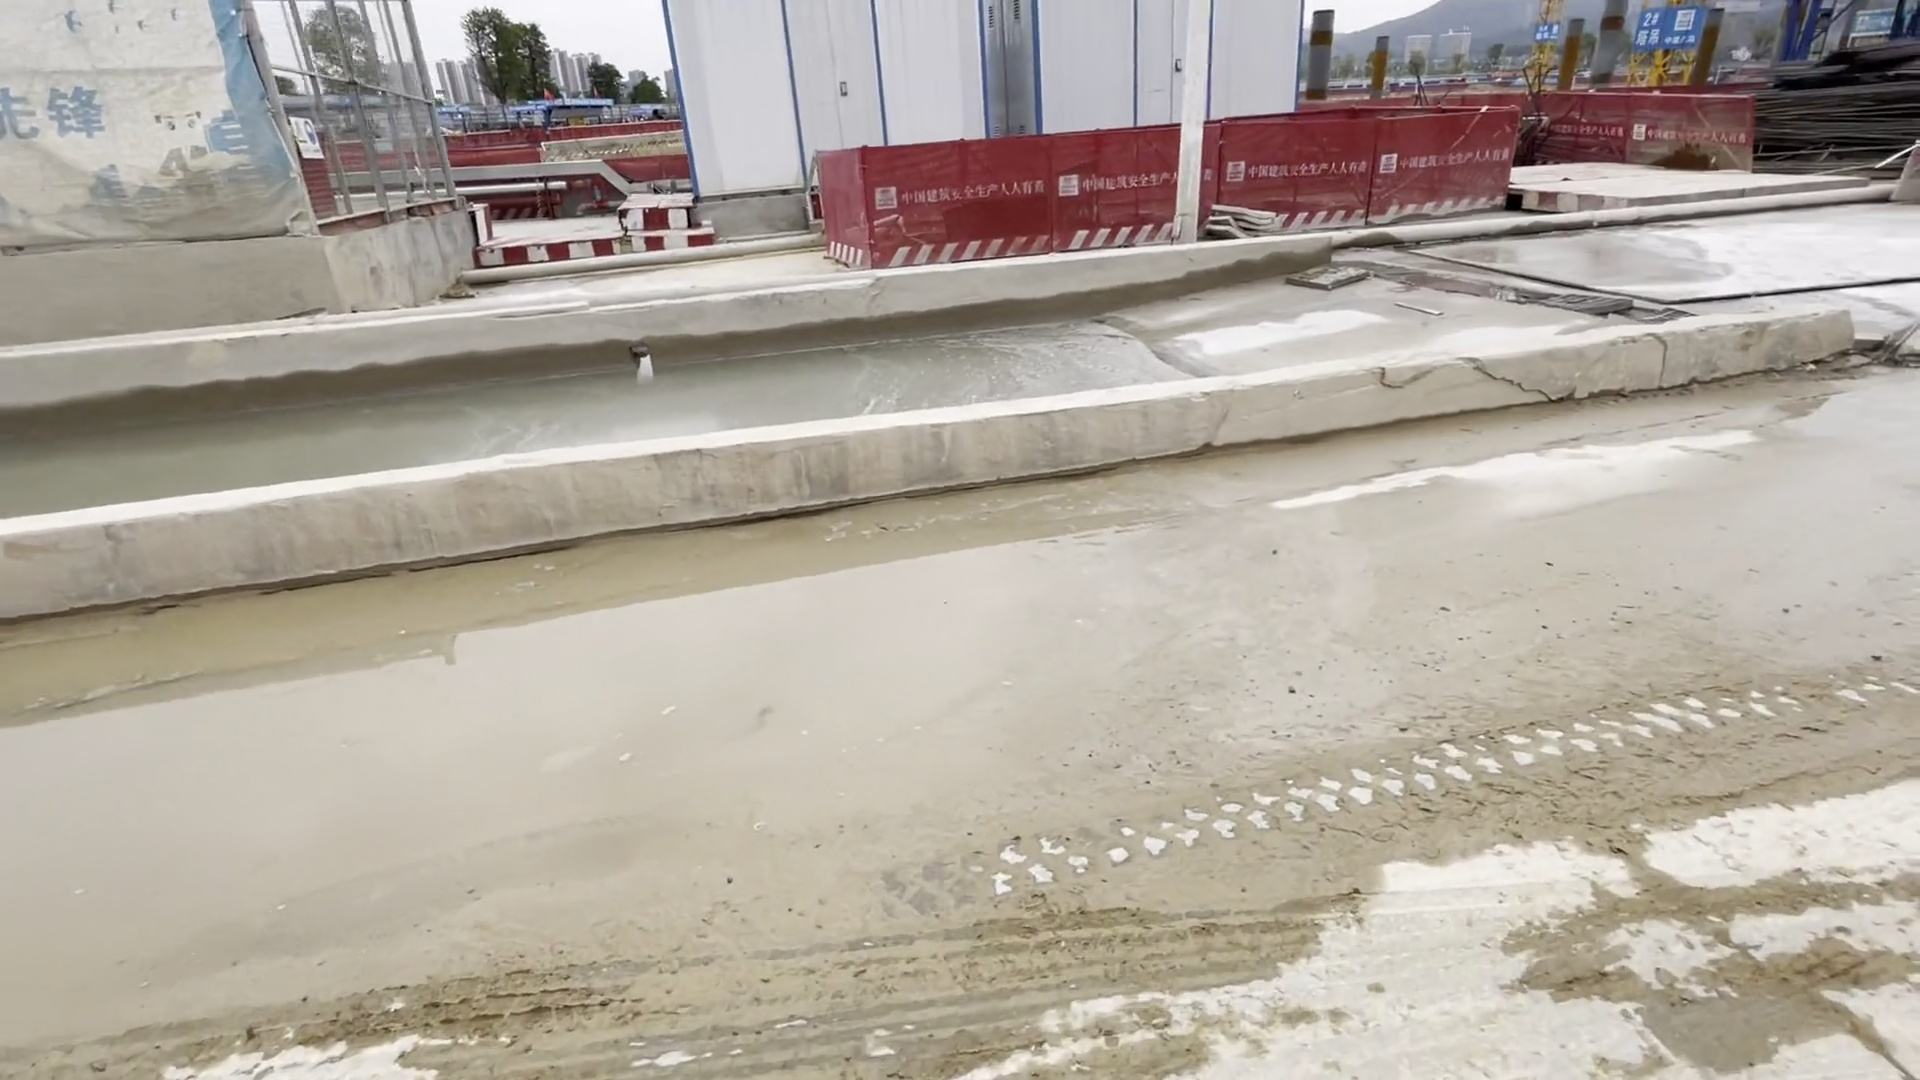fence: (815, 92, 1520, 277)
